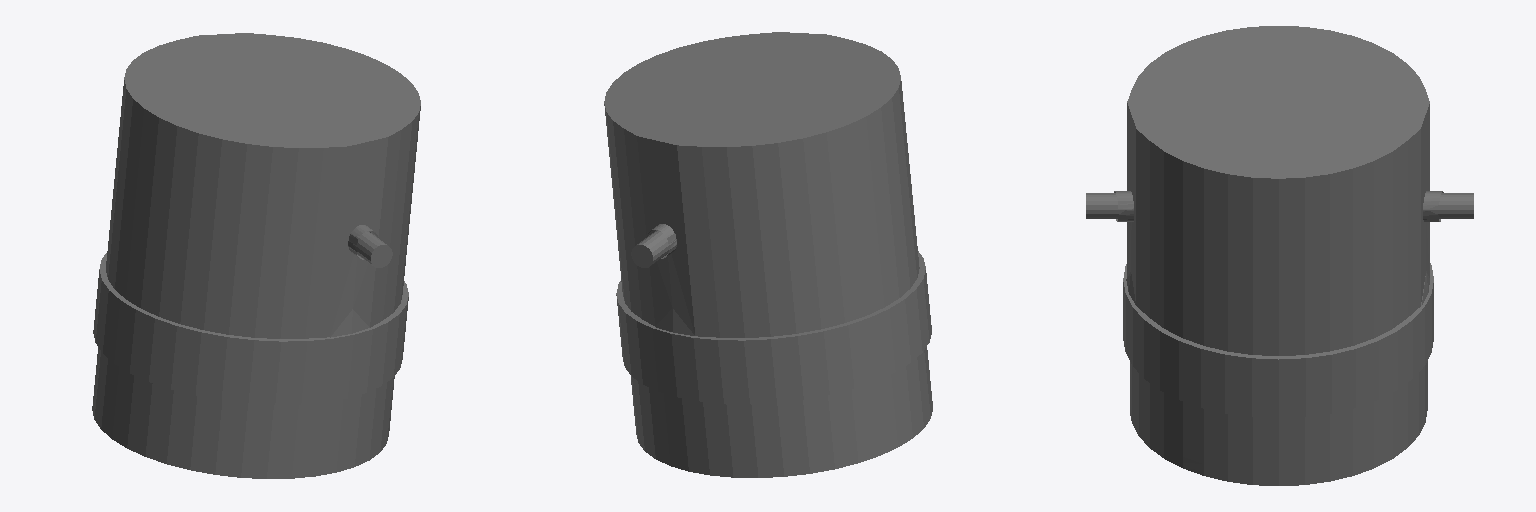
The model's file is 1_light_object.obj.
3 views of the same model, side by side, from view 1: azimuth 30°, elevation 25°; view 2: azimuth 150°, elevation 25°; view 3: azimuth 270°, elevation 25° (orthographic).
Parts seen in each view (by area): view 1: stage_cgtrader:Cylinder042; view 2: stage_cgtrader:Cylinder042; view 3: stage_cgtrader:Cylinder042.
Boxes of the visible parts, x1=… form: stage_cgtrader:Cylinder042: x1=92, y1=33, x2=420, y2=478; stage_cgtrader:Cylinder042: x1=604, y1=32, x2=932, y2=477; stage_cgtrader:Cylinder042: x1=1086, y1=26, x2=1473, y2=485.
Size of the model in its own units: 8.12 by 9.43 by 9.47.